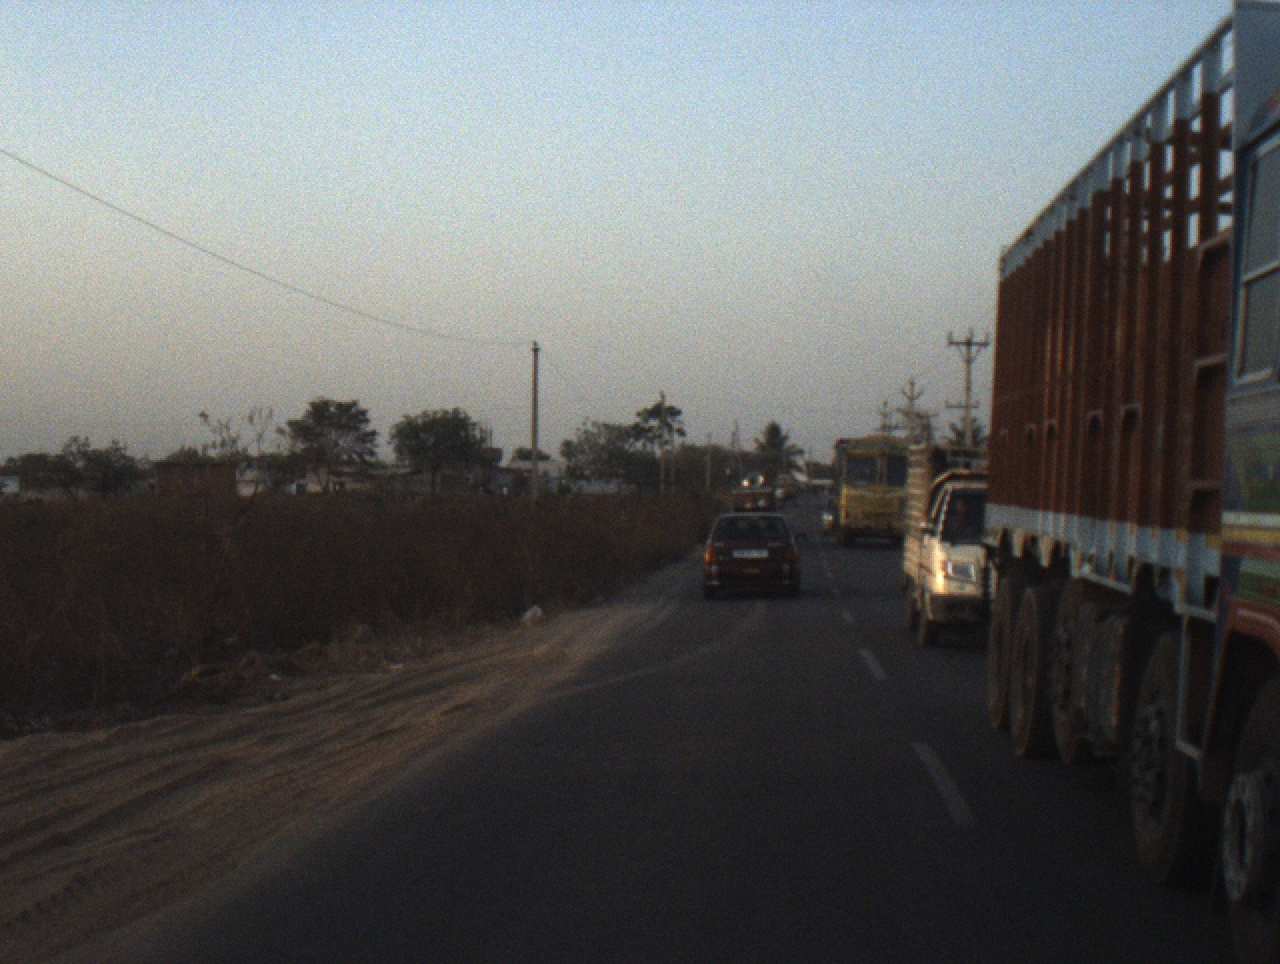car: (700, 510, 809, 600), (816, 499, 839, 537)
motorcycle: (776, 494, 789, 511)
rider: (776, 487, 789, 501)
truck: (982, 1, 1278, 802), (901, 443, 1000, 649), (830, 435, 917, 549), (724, 471, 779, 512)
vehicle fallback: (774, 477, 799, 496)
